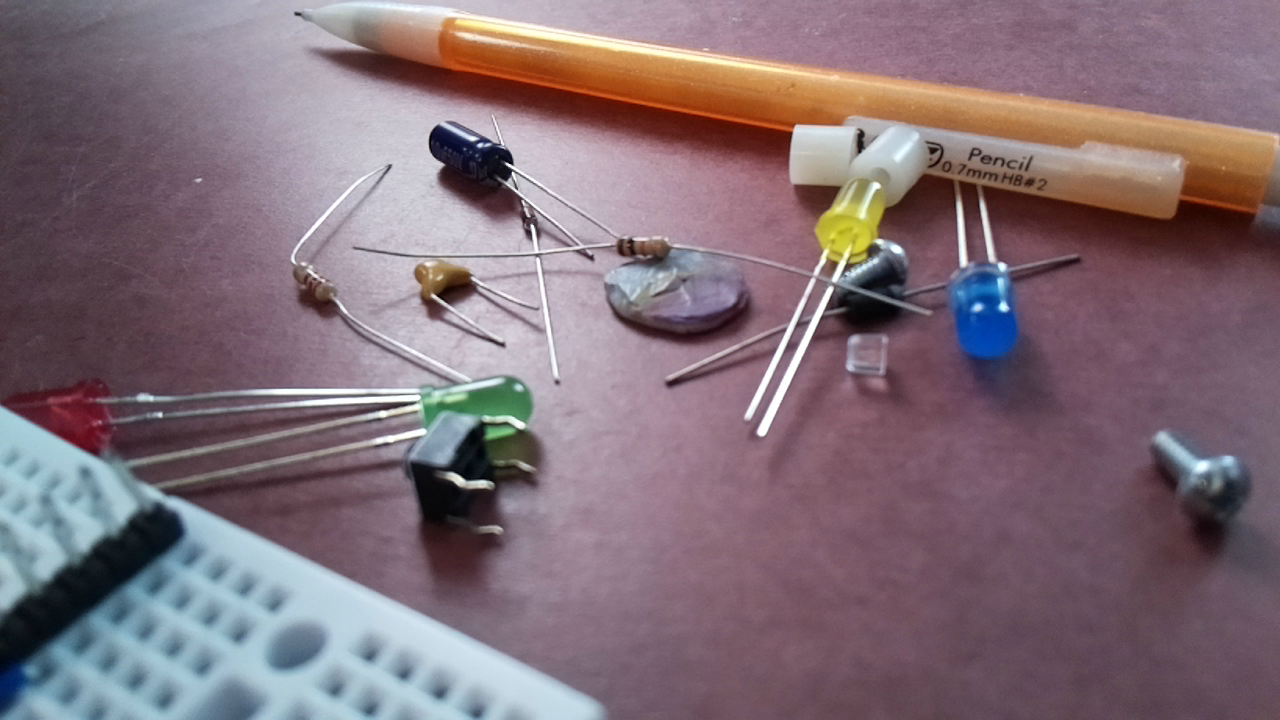button: (399, 408, 495, 531)
capacitor: (419, 116, 522, 198), (404, 253, 477, 311)
diode: (837, 283, 910, 326), (517, 200, 541, 234)
led: (1, 377, 126, 456), (418, 373, 537, 452), (944, 258, 1023, 364), (812, 176, 887, 266)
resistor: (291, 259, 345, 309), (611, 233, 675, 262)
